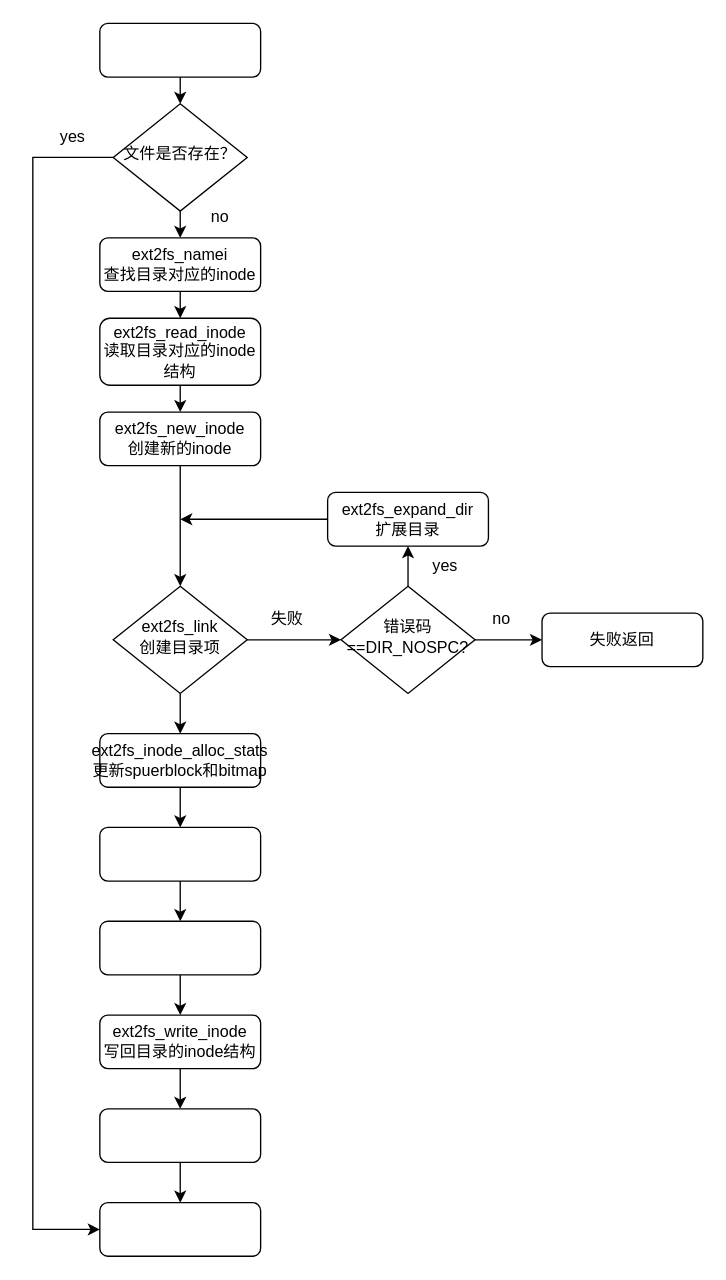
This 726x1280 diagram has some shape labels left out. Here are the shapes that lost their labels. From the top down, the centre of each, then its label:
At pixel 179 49: "ext4_open".
At pixel 179 853: "设置新文件的inode结构，更新目录inode结构".
At pixel 179 947: "ext2fs_write_new_inode 写回新文件的inode结构".
At pixel 179 1135: "ext4_open 打开新创建的文件".
At pixel 179 1228: "返回打开的文件".
